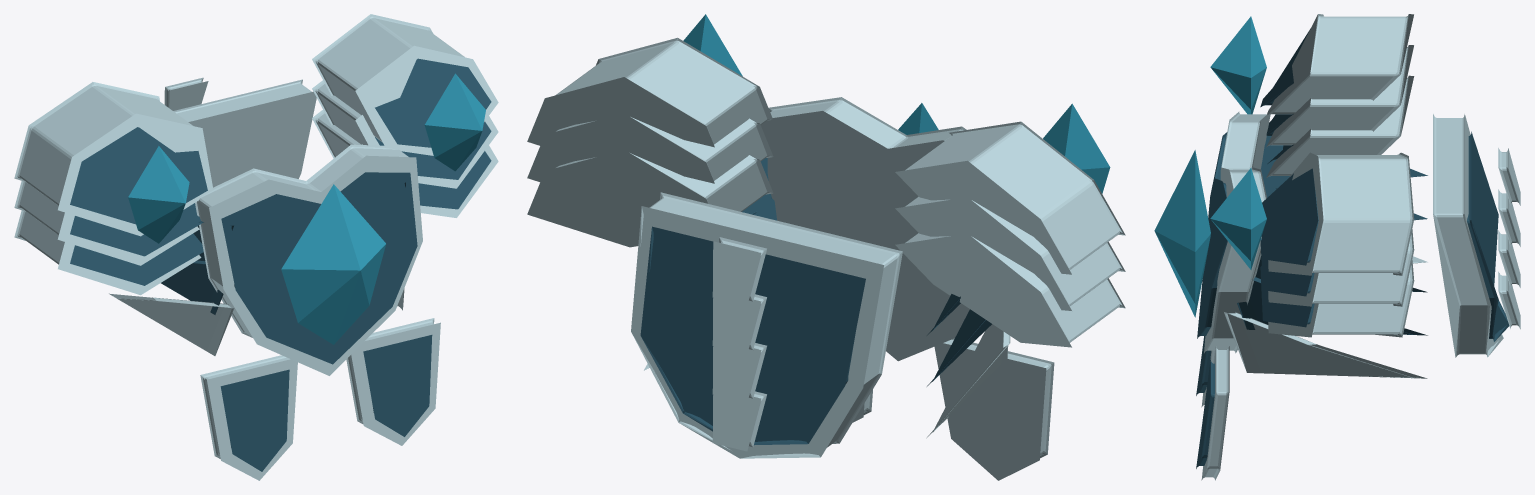
The model's file is knight-rime.glb.
3 views of the same model, side by side, from view 1: azimuth 30°, elevation 25°; view 2: azimuth 150°, elevation 25°; view 3: azimuth 270°, elevation 25° (orthographic). The views are drawn at different scales.
Parts seen in each view (by area): view 1: Blue steel breastplate, Scalloped shoulder rim, Silver breastplate silhouette, Heart of rime, Scalloped shoulder rim.003, Backplate silver silhouette, Shoulder enamel, Waist blue inlay.001, Waist blue inlay, Shoulder enamel.003, Waist silver tasset, Waist silver tasset.001 (+13 smaller); view 2: Backplate darksteel, Silver breastplate silhouette, Backplate silver silhouette, Scalloped shoulder rim, Scalloped shoulder rim.003, Scalloped shoulder rim.005, Scalloped shoulder rim.002, Waist silver tasset, Scalloped shoulder rim.004, Scalloped shoulder rim.001, Spine articulated ridge, Shoulder ice crystal (+7 smaller); view 3: Scalloped shoulder rim.003, Scalloped shoulder rim, Backplate silver silhouette, Silver breastplate silhouette, Articulated flank.005, Heart of rime, Shoulder enamel.003, Scalloped shoulder rim.001, Scalloped shoulder rim.005, Backplate darksteel, Scalloped shoulder rim.004, Scalloped shoulder rim.002 (+15 smaller).
Part boxes in pixels (x1,y1,x2,y2): Blue steel breastplate: (221, 172, 417, 364); Scalloped shoulder rim: (14, 82, 212, 236); Silver breastplate silhouette: (195, 144, 422, 375); Heart of rime: (281, 184, 385, 344); Scalloped shoulder rim.003: (312, 14, 498, 155); Backplate silver silhouette: (173, 79, 316, 187); Shoulder enamel: (70, 127, 207, 224); Waist blue inlay.001: (363, 335, 432, 436); Waist blue inlay: (220, 369, 289, 471); Shoulder enamel.003: (375, 58, 491, 147); Waist silver tasset: (200, 355, 297, 480); Waist silver tasset.001: (346, 318, 440, 445); Backplate darksteel: (640, 226, 865, 445); Silver breastplate silhouette: (761, 97, 969, 361); Backplate silver silhouette: (631, 192, 902, 458); Scalloped shoulder rim: (895, 121, 1125, 274); Scalloped shoulder rim.003: (527, 37, 772, 147); Scalloped shoulder rim.005: (527, 150, 773, 247); Scalloped shoulder rim.002: (895, 233, 1125, 347); Waist silver tasset: (934, 338, 1054, 480); Scalloped shoulder rim.004: (527, 113, 773, 183); Scalloped shoulder rim.001: (895, 196, 1125, 310); Spine articulated ridge: (712, 237, 766, 305); Shoulder ice crystal: (1043, 103, 1110, 193); Scalloped shoulder rim.003: (1268, 152, 1414, 275); Scalloped shoulder rim: (1267, 14, 1413, 114); Backplate silver silhouette: (1433, 114, 1503, 357); Silver breastplate silhouette: (1204, 111, 1270, 353); Articulated flank.005: (1224, 312, 1427, 378); Heart of rime: (1154, 150, 1210, 317); Shoulder enamel.003: (1261, 168, 1318, 265); Scalloped shoulder rim.001: (1266, 45, 1413, 147); Scalloped shoulder rim.005: (1268, 260, 1414, 337); Backplate darksteel: (1467, 131, 1509, 341); Scalloped shoulder rim.004: (1268, 229, 1414, 306); Scalloped shoulder rim.002: (1266, 75, 1414, 177).
Size of the model in its own units: 1.17 by 0.8739 by 0.8065.
